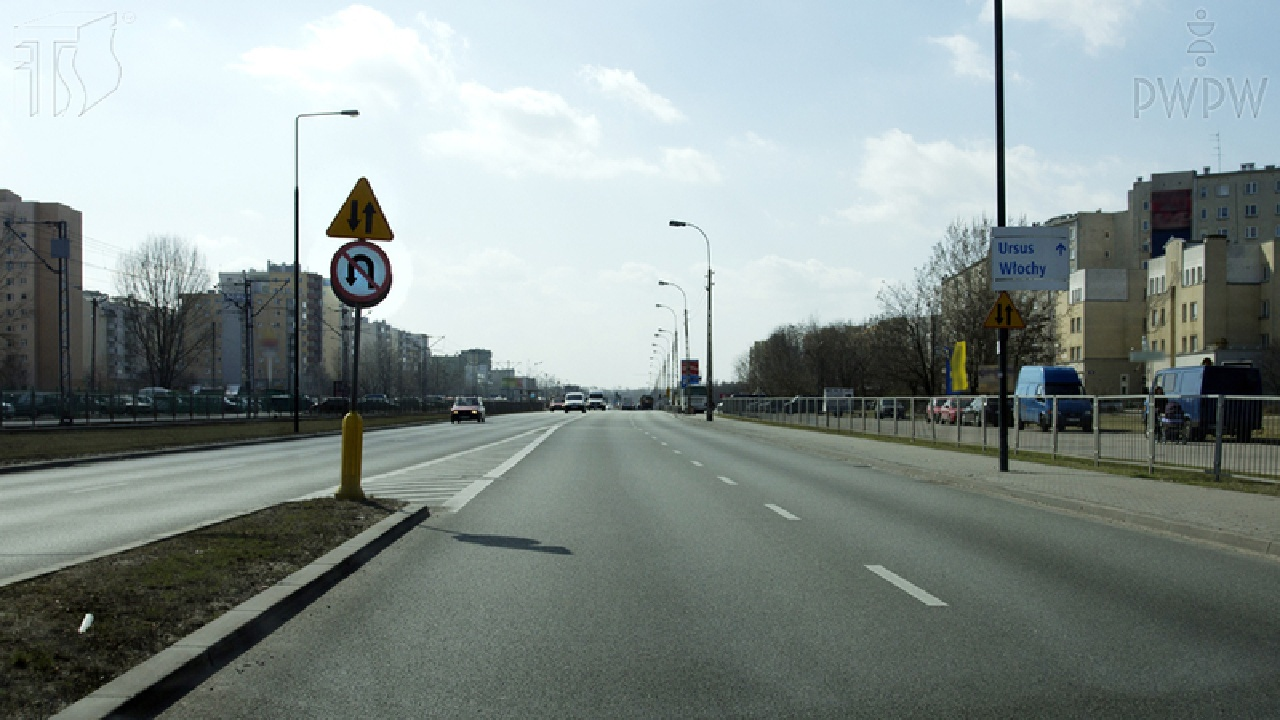A20: (326, 177, 395, 240), (984, 290, 1025, 329)
B23: (332, 242, 392, 302)
